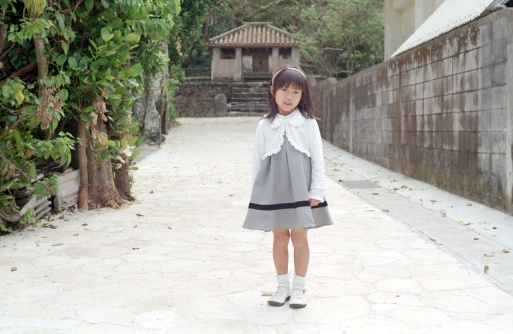em pe: (235, 52, 328, 304)
